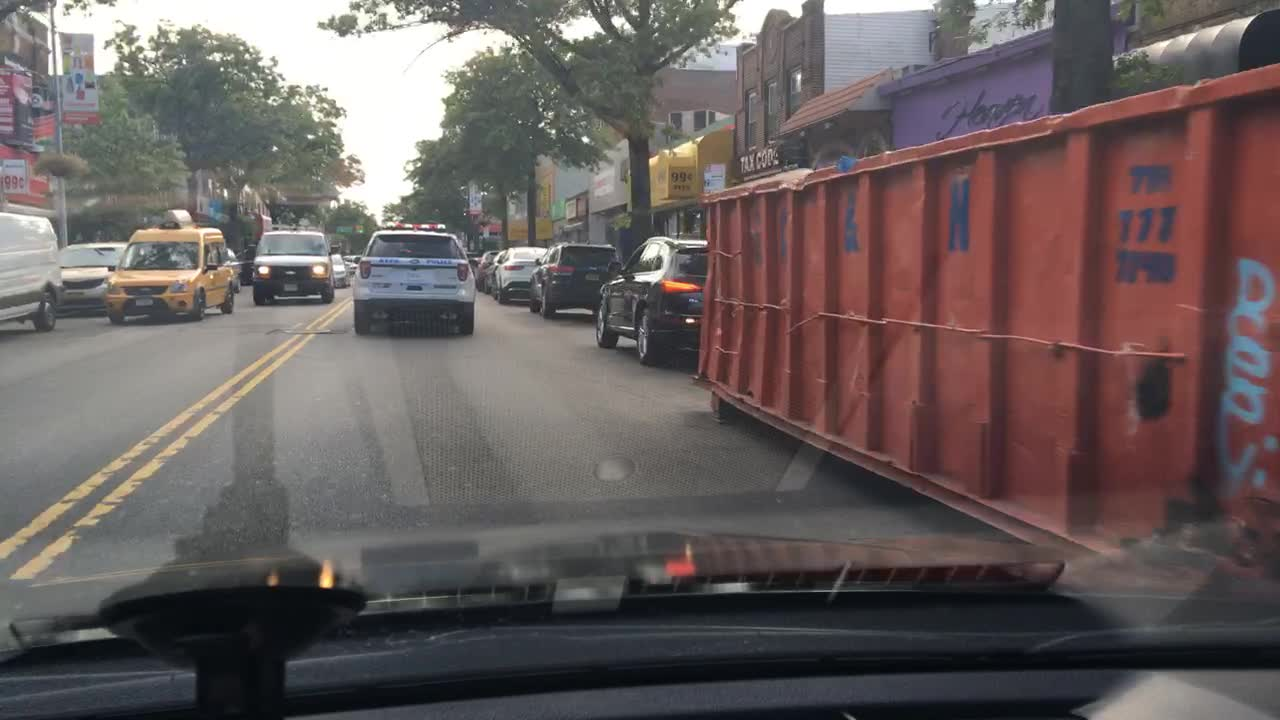car: (106, 209, 241, 329), (593, 237, 708, 367), (358, 222, 476, 337), (0, 210, 57, 337), (528, 241, 622, 318), (251, 229, 335, 305), (50, 239, 125, 321), (495, 244, 547, 305), (234, 248, 261, 285), (481, 248, 500, 296), (473, 249, 490, 295), (331, 251, 350, 288), (350, 254, 363, 275), (338, 256, 352, 273), (463, 248, 483, 259)
traffic sign: (335, 224, 365, 236)
